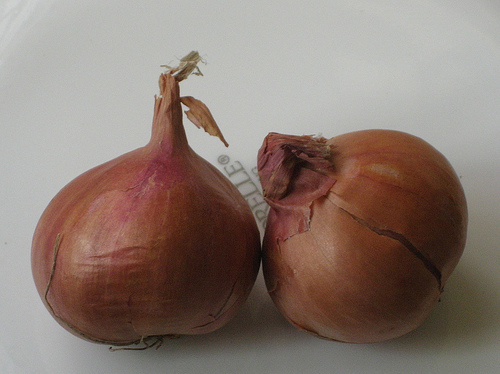onion: (31, 50, 261, 345), (257, 112, 465, 353)
